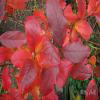Blueberry leaf: (45, 0, 68, 51), (35, 39, 62, 69), (15, 61, 38, 94), (25, 14, 43, 56), (62, 40, 92, 65), (39, 64, 61, 97), (0, 29, 28, 53), (70, 60, 91, 84), (11, 50, 34, 68), (83, 76, 99, 99), (74, 19, 94, 36), (32, 8, 48, 25), (65, 12, 81, 24), (77, 0, 87, 19)
